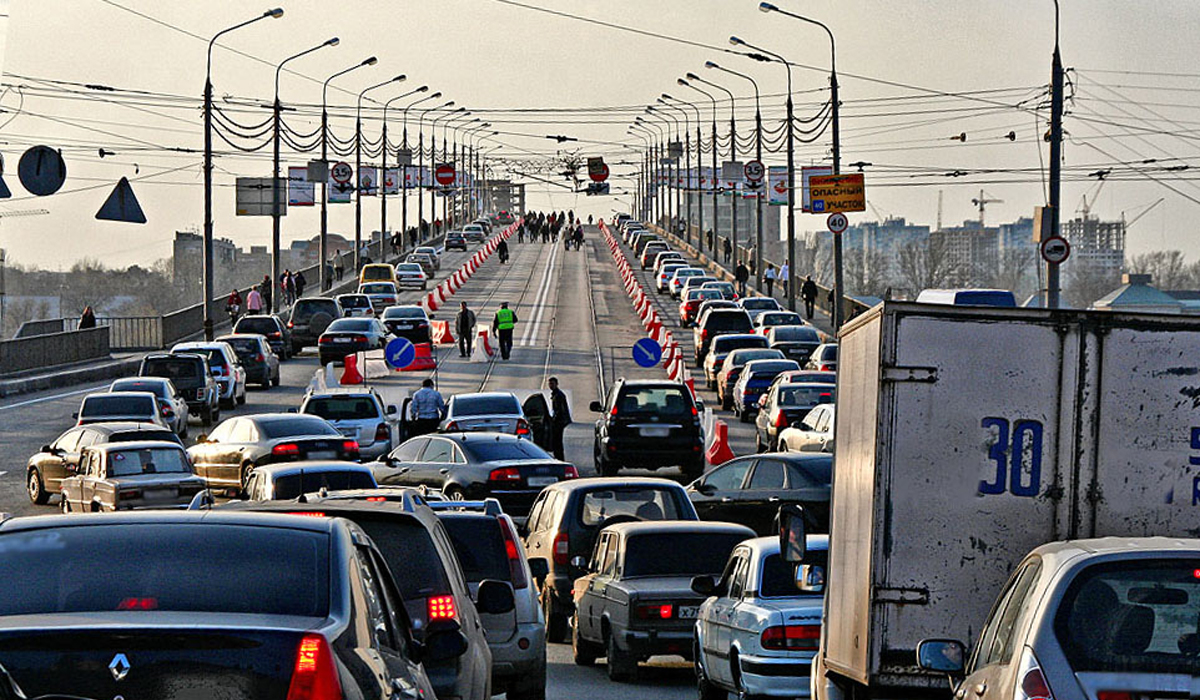sign: (1040, 231, 1076, 267), (383, 336, 418, 369), (632, 336, 664, 368), (743, 158, 767, 185), (826, 210, 850, 234), (434, 162, 458, 186), (330, 158, 354, 181), (589, 159, 611, 181), (587, 180, 611, 197), (331, 180, 356, 195), (435, 184, 457, 198)
